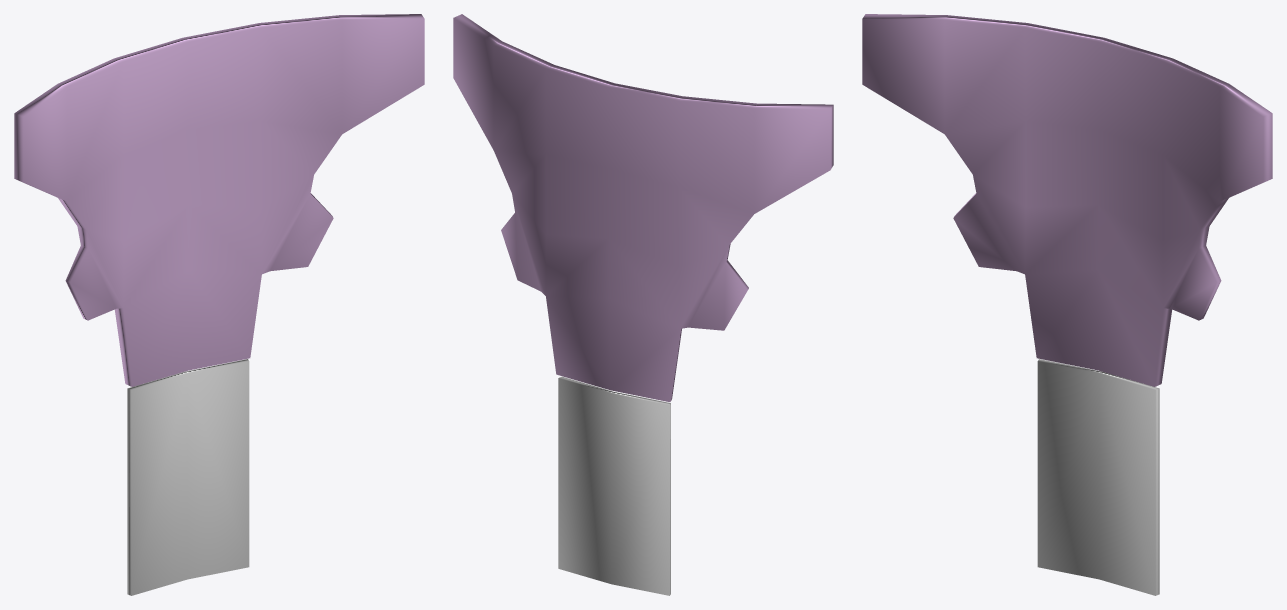
The model's file is Observatory_Interior_Main_Door.fbx.
3 views of the same model, side by side, from view 1: azimuth 30°, elevation 25°; view 2: azimuth 150°, elevation 25°; view 3: azimuth 330°, elevation 25° (orthographic). The views are drawn at different scales.
Visible parts, largest first — view 1: Circle 1.001; view 2: Circle 1.001; view 3: Circle 1.001.
Part boxes in pixels (left/top/right/bottom): Circle 1.001: left=14, top=14, right=424, bottom=595; Circle 1.001: left=453, top=14, right=833, bottom=595; Circle 1.001: left=862, top=14, right=1272, bottom=595.
Size of the model in its own units: 1669 by 2108 by 297.
